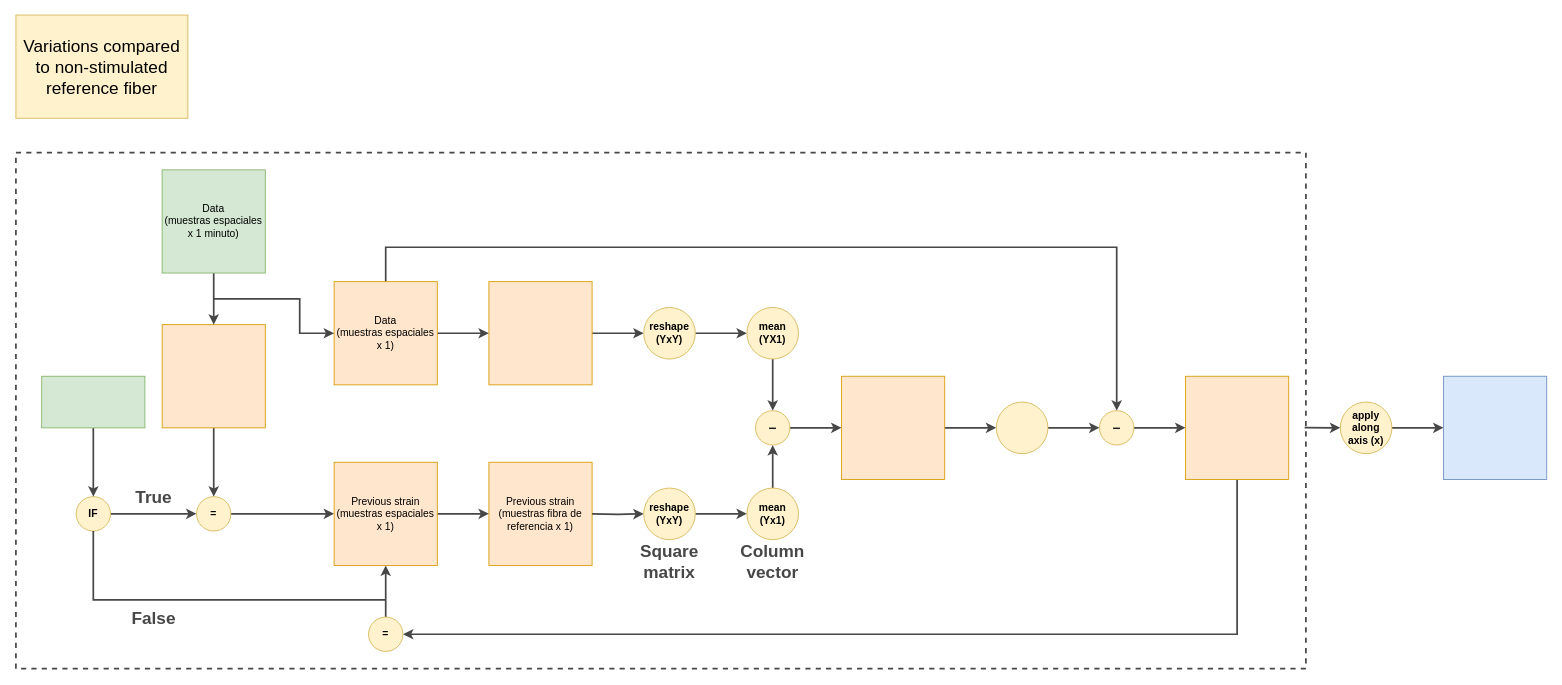
This 1562x685 diagram has some shape labels left out. The shapes that lost their labels are listed below. From the top down, each one's centre as x and y in pixels, then its label:
(540,333): Data (muestras fibra de referencia x 1)
(213,376): Data (: , 0)
(93,401): 1º Iteración
(893,427): segmented mean (1xY)
(1021,427): median (1)
(1237,427): Val (muestras espaciales x 1)
(1495,427): Data2 (muestras espaciales x 1 minuto)
